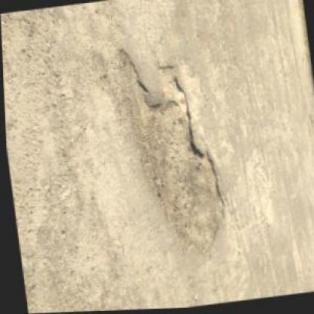Hueco: (110, 35, 230, 265)
